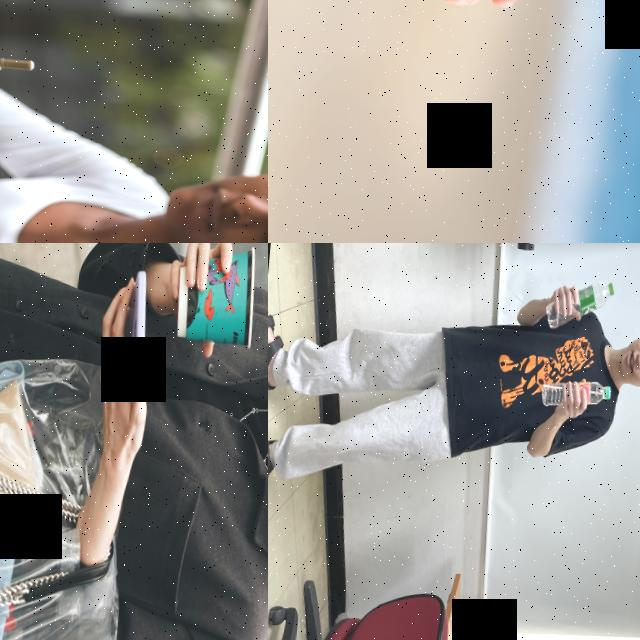bottle: (542, 275, 614, 335), (539, 376, 611, 412)
cup: (169, 243, 261, 354)
